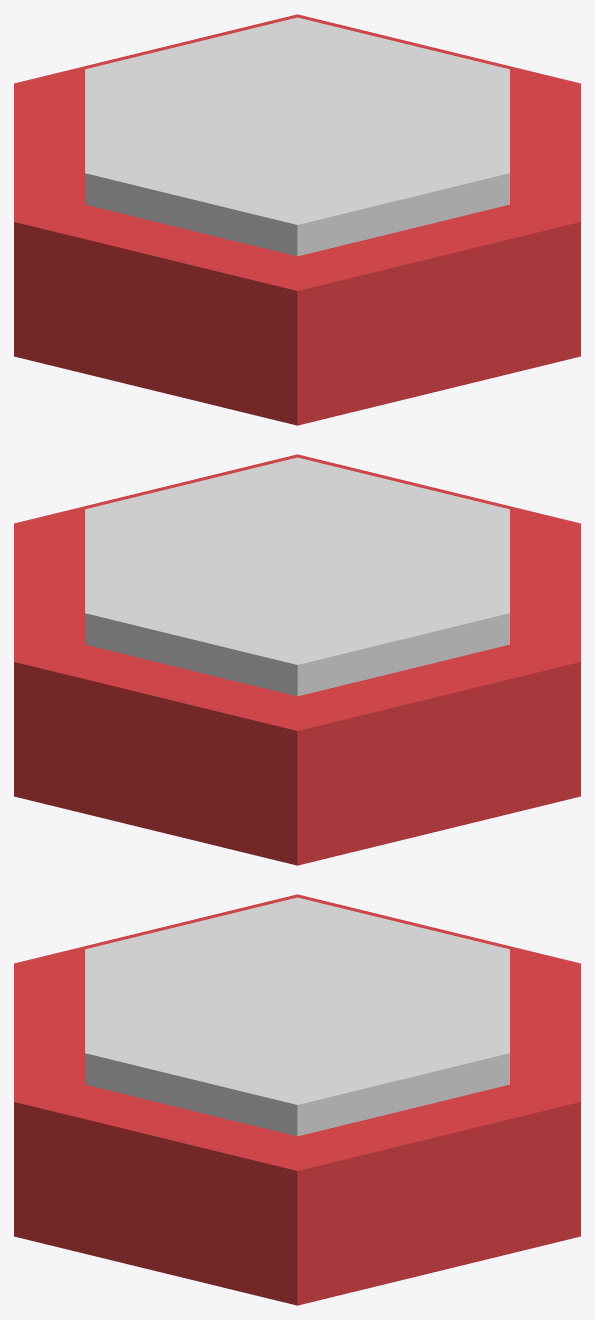
File: enemybasiccell.glb
The picture shows the model from 3 angles, top to bottom: view 1: azimuth 30°, elevation 25°; view 2: azimuth 150°, elevation 25°; view 3: azimuth 270°, elevation 25°; orthographic projection.
Visible parts, largest first — view 1: Cylinder.003, Cylinder; view 2: Cylinder.003, Cylinder; view 3: Cylinder.003, Cylinder.
Boxes of the visible parts, x1,y1,x2,y2 form: Cylinder.003: [14, 14, 580, 425]; Cylinder: [85, 17, 509, 256]; Cylinder.003: [14, 454, 580, 865]; Cylinder: [85, 457, 509, 696]; Cylinder.003: [14, 894, 580, 1305]; Cylinder: [85, 897, 509, 1136].
Size of the model in its own units: 2 by 0.5598 by 1.73.
